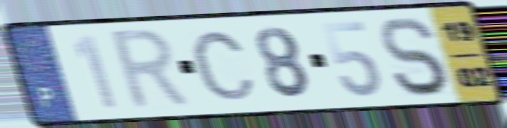1: (72, 32, 119, 111)
5: (319, 19, 384, 99)
8: (255, 25, 314, 101)
C: (189, 28, 259, 103)
R: (107, 25, 196, 114)
S: (376, 14, 451, 99)
